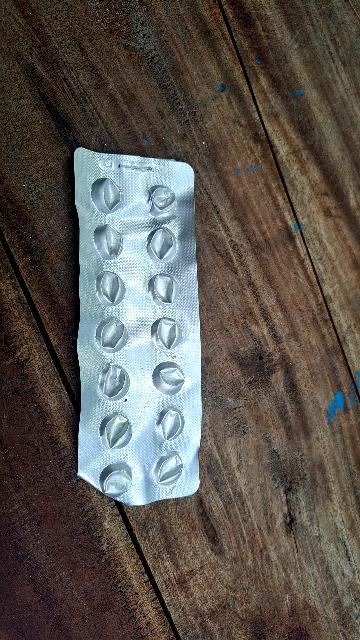medicine: (60, 131, 206, 498)
